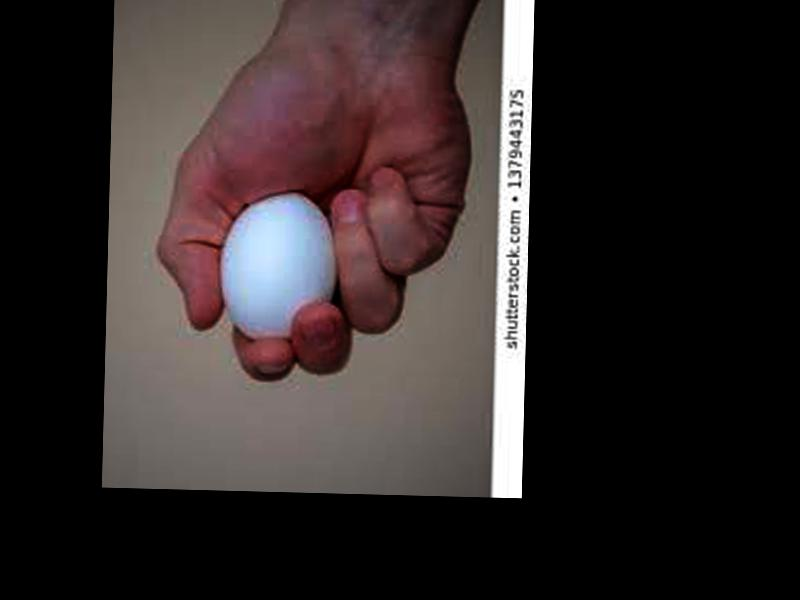Eggs: (218, 187, 337, 340)
